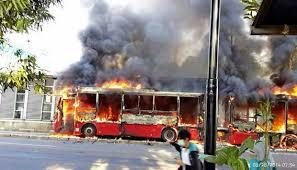fire: (51, 74, 141, 136), (273, 84, 297, 129)
